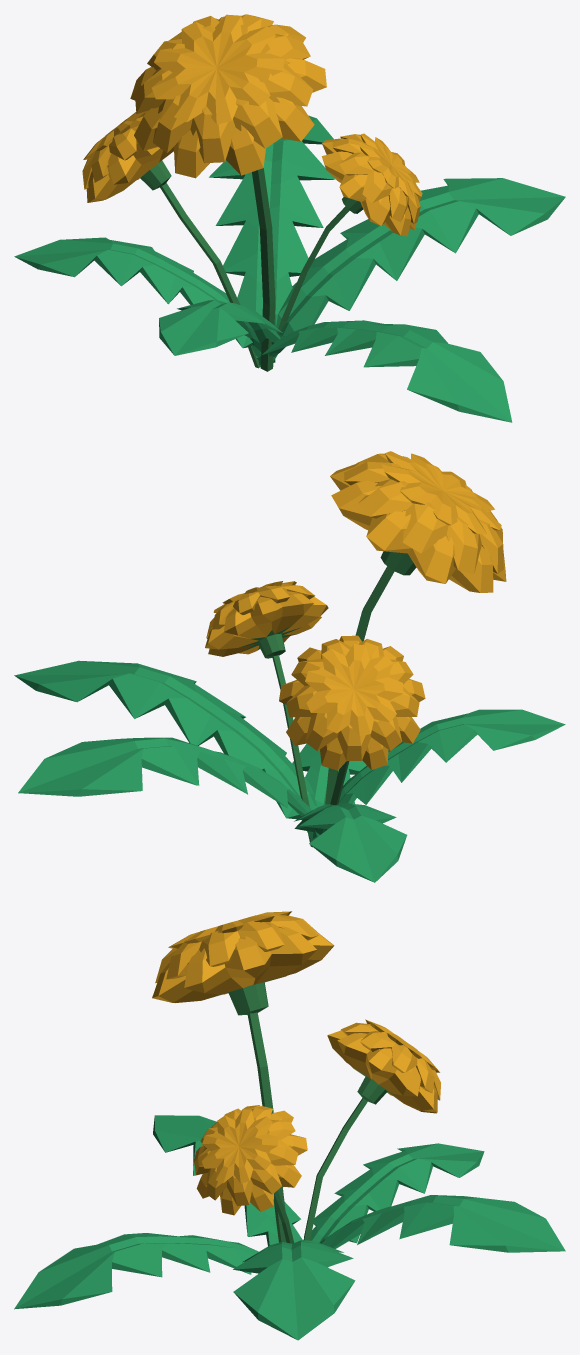
File: 3D_Model_Dandelion_LP_v3.fbx
3 views of the same model, one above another, from view 1: azimuth 30°, elevation 25°; view 2: azimuth 150°, elevation 25°; view 3: azimuth 270°, elevation 25° (orthographic). The views are drawn at different scales.
Visible parts, largest first — view 1: dandelion_03; view 2: dandelion_03; view 3: dandelion_03.
Boxes of the visible parts, x1,y1,x2,y2 form: dandelion_03: (14, 14, 565, 422); dandelion_03: (14, 451, 565, 882); dandelion_03: (14, 911, 565, 1340).
Size of the model in its own units: 223 by 172 by 241.
